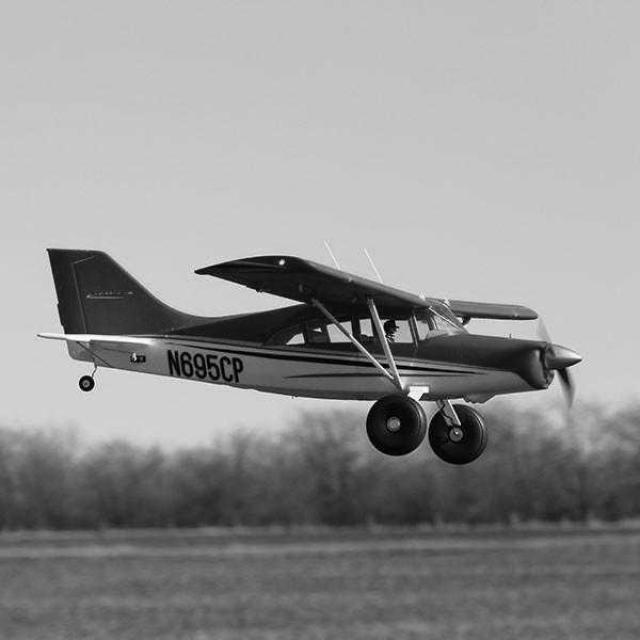Aircraft: (27, 223, 595, 469)
